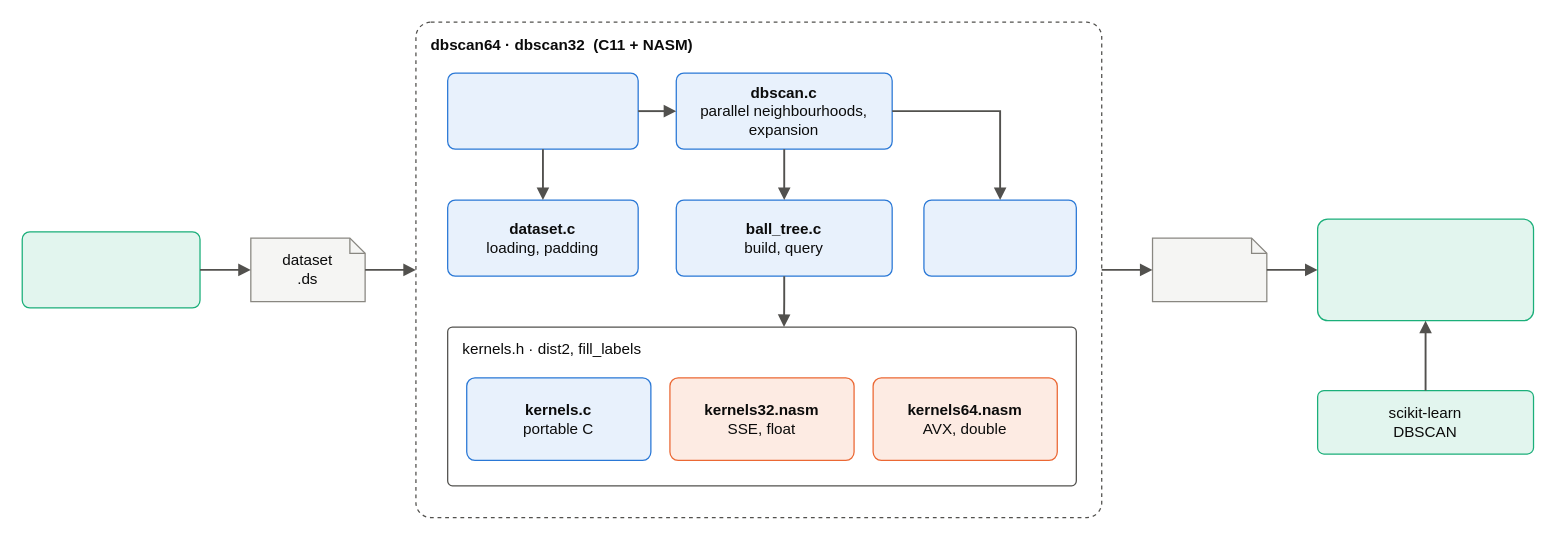
Some shapes in this 1556 by 540 pixel diagram are drawn without their labels. The box of each missing label's shape, as (x1, y1, x2, y2) in pixels:
compare_sklearn.py run_tests.py comparison: (1316, 218, 1534, 321)
labels .labels: (1151, 237, 1267, 302)
main.c options, statistics: (446, 72, 638, 149)
make_dataset.py generates datasets: (21, 231, 200, 308)
point_list.c growable array: (923, 199, 1076, 276)
